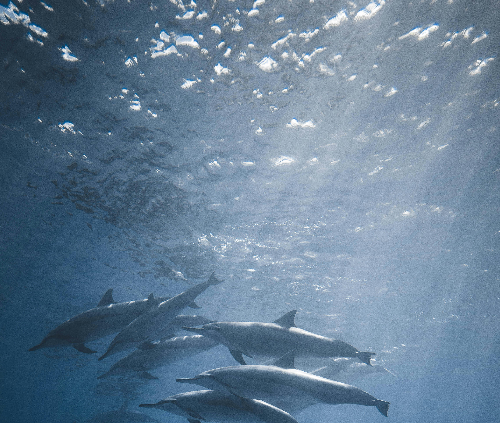dolphin: (175, 349, 389, 418), (27, 287, 202, 355), (181, 309, 377, 369), (98, 270, 225, 361), (95, 335, 247, 381), (138, 386, 300, 423), (159, 313, 214, 338)
